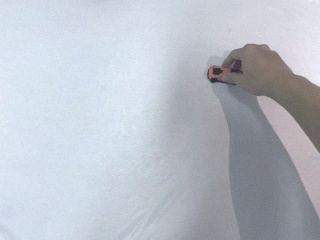toy_car: (205, 66, 248, 85)
